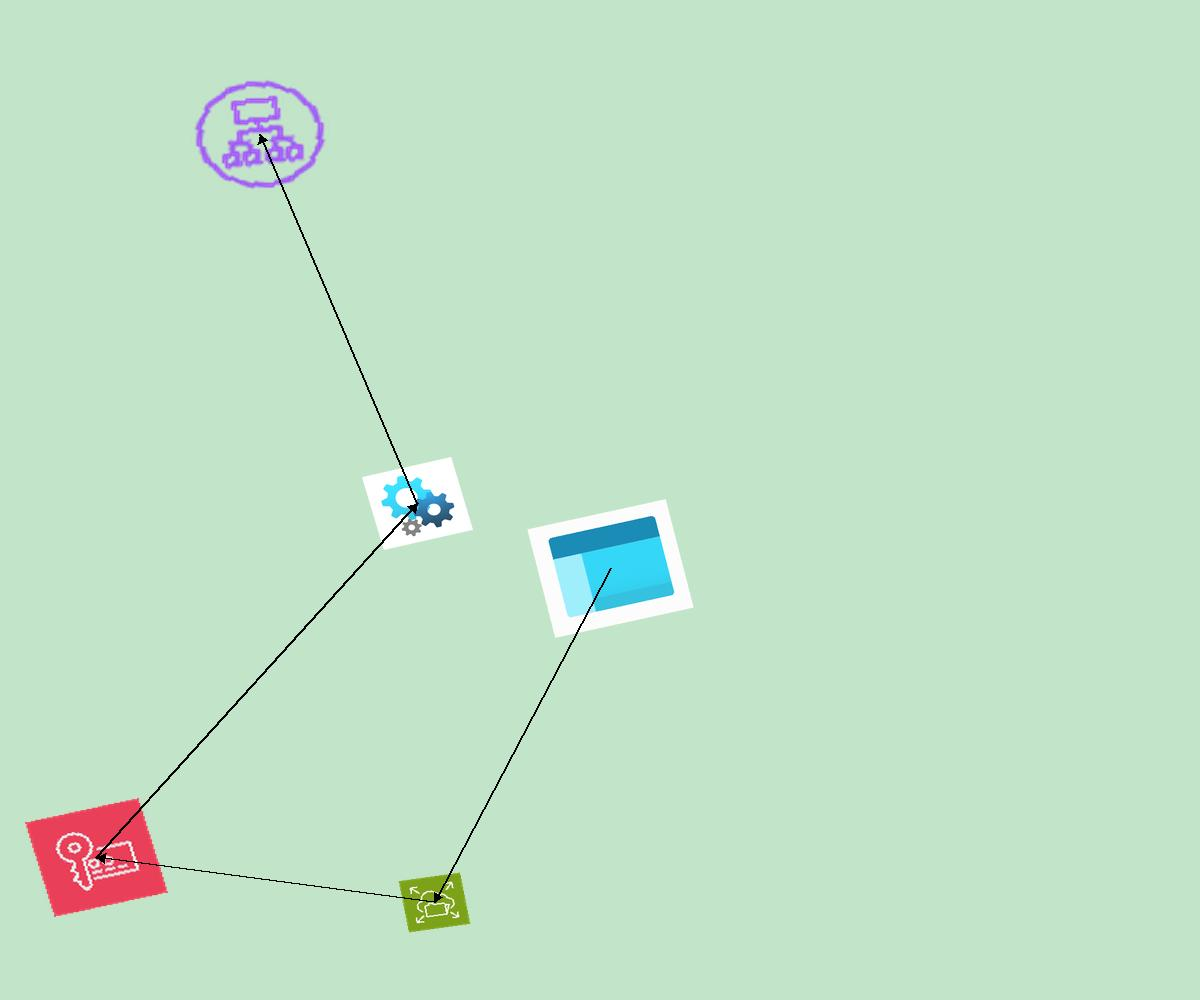AWS-EFS: (398, 872, 471, 933)
AWS-Key-Management-Service: (25, 798, 168, 917)
AWS-Res_Elastic-Load-Balancing_Application-Load-Balancer: (179, 67, 341, 202)
Azure_api: (362, 457, 473, 550)
Azure_management-portal: (527, 499, 694, 638)
